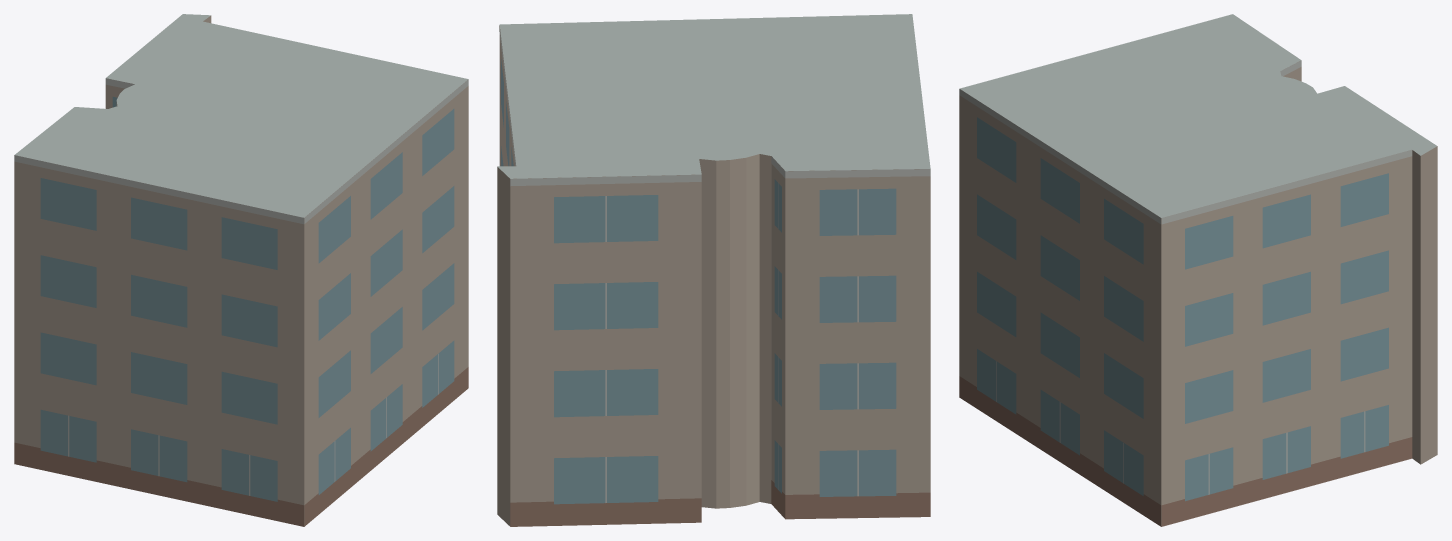
Rendered from survey-upis-32625325.glb.
3 renders of one model, left to right at view 1: azimuth 30°, elevation 25°; view 2: azimuth 150°, elevation 25°; view 3: azimuth 270°, elevation 25°, orthographic. The views are drawn at different scales.
Parts seen in each view (by area): view 1: survey-upis-32625325.tmp; view 2: survey-upis-32625325.tmp; view 3: survey-upis-32625325.tmp.
Boxes of the visible parts, x1,y1,x2,y2 form: survey-upis-32625325.tmp: (14,14,468,526); survey-upis-32625325.tmp: (497,14,930,526); survey-upis-32625325.tmp: (959,14,1437,526).
Bounding box in the file's own units: 16.45 × 11.6 × 16.29.
